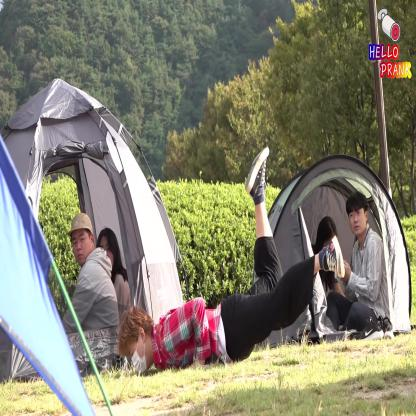Fall_Down: (120, 144, 346, 374)
